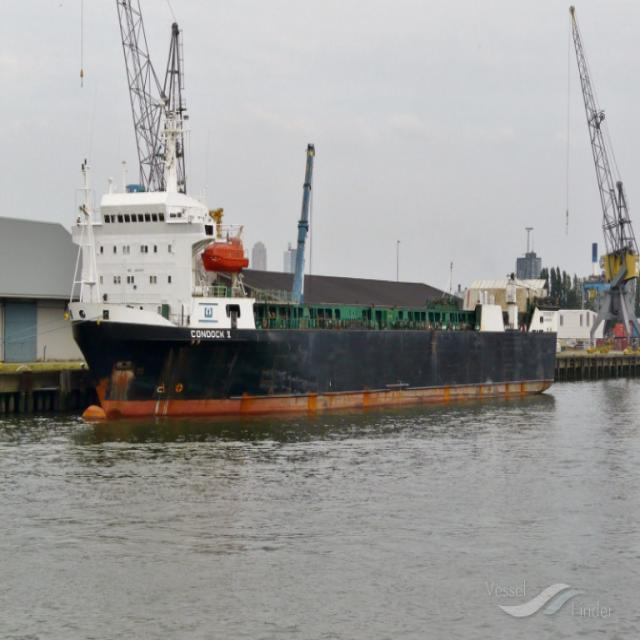OCR: (184, 321, 233, 343)
